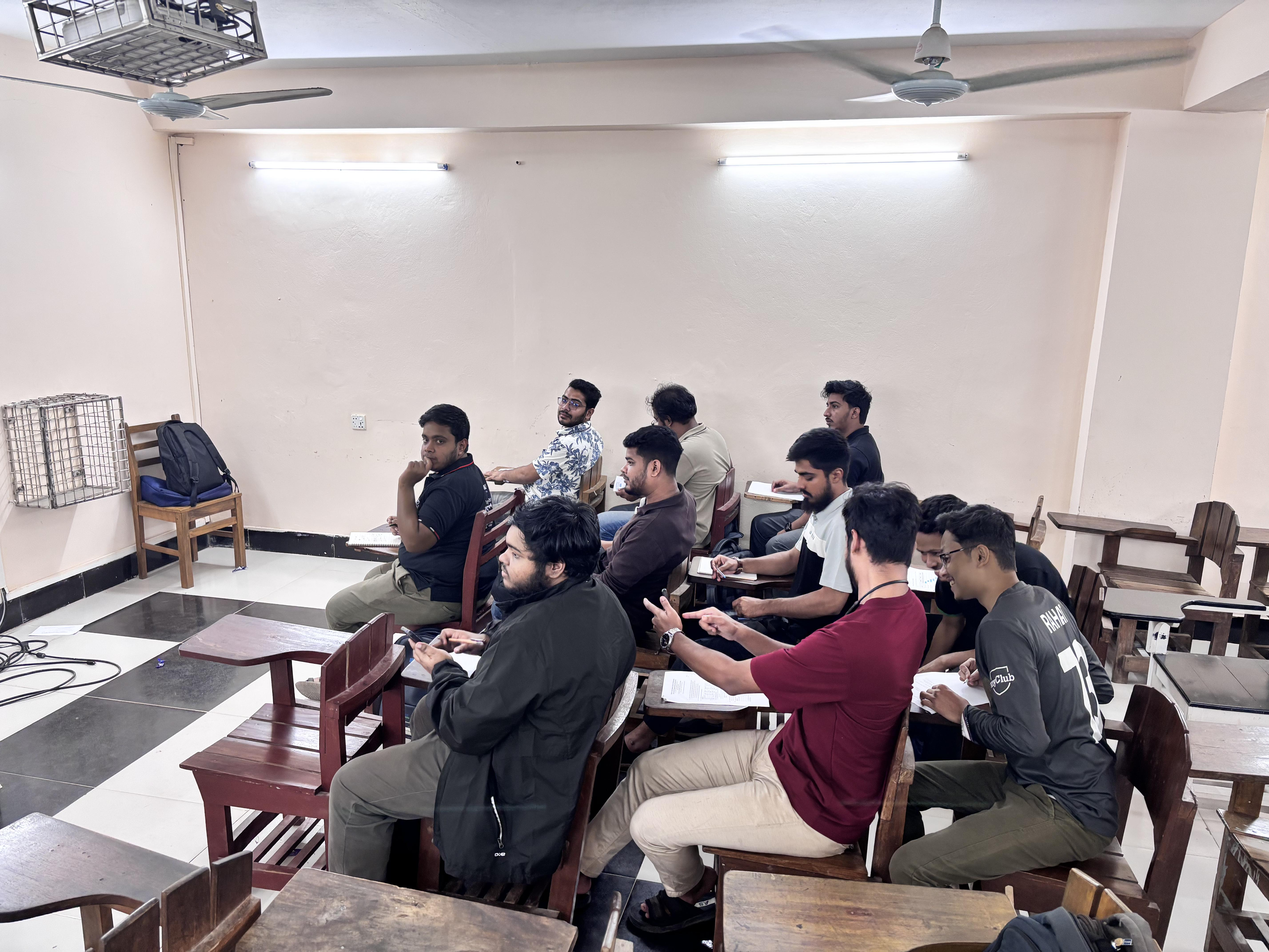no_cheating: (711, 430, 858, 584), (611, 426, 695, 589), (805, 374, 885, 482), (634, 379, 718, 434)
side_talking: (910, 483, 1030, 669), (822, 466, 925, 660), (388, 398, 490, 576), (504, 374, 605, 509)
using_phone: (398, 492, 612, 704)
